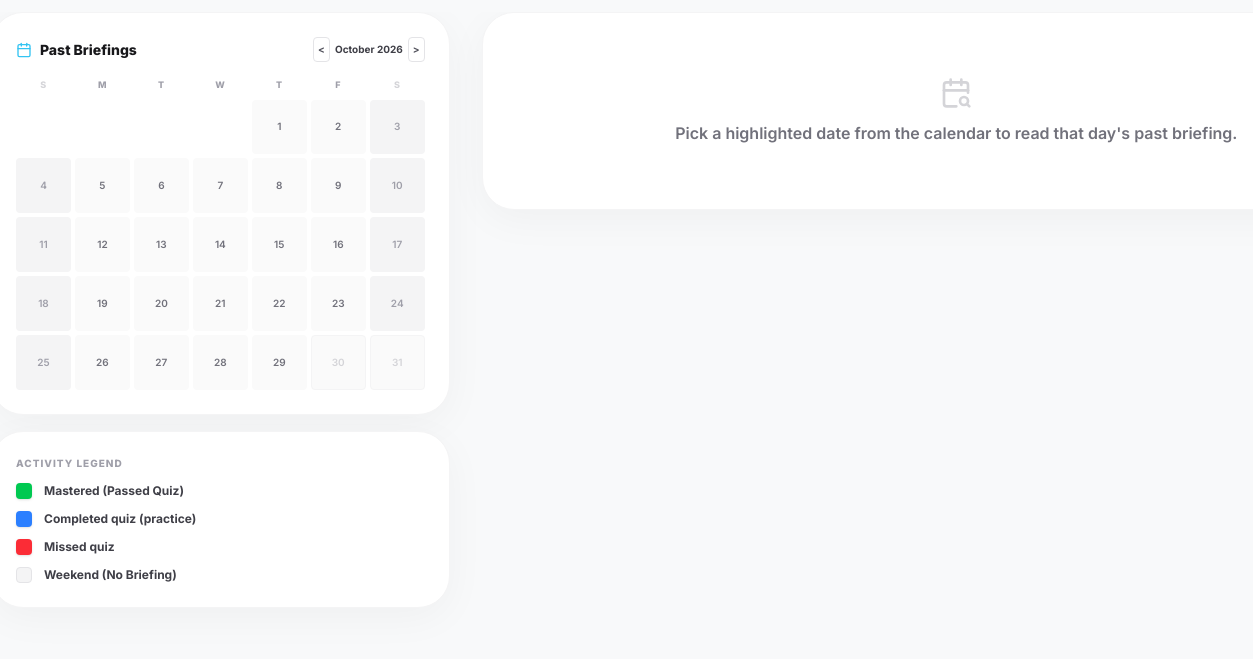
Test: PastBlogsTab › hides today without quiz; shows prior missed-quiz days in red
This screenshot has width=1253, height=659.
Expected: the text "Mastered (Passed Quiz)" is shown, x1=44 y1=483 x2=184 y2=499
Expected: the text "Missed quiz" is shown, x1=44 y1=539 x2=115 y2=555
Step 1. Click the button "<" → (322, 50), box x1=313 y1=37 x2=330 y2=62
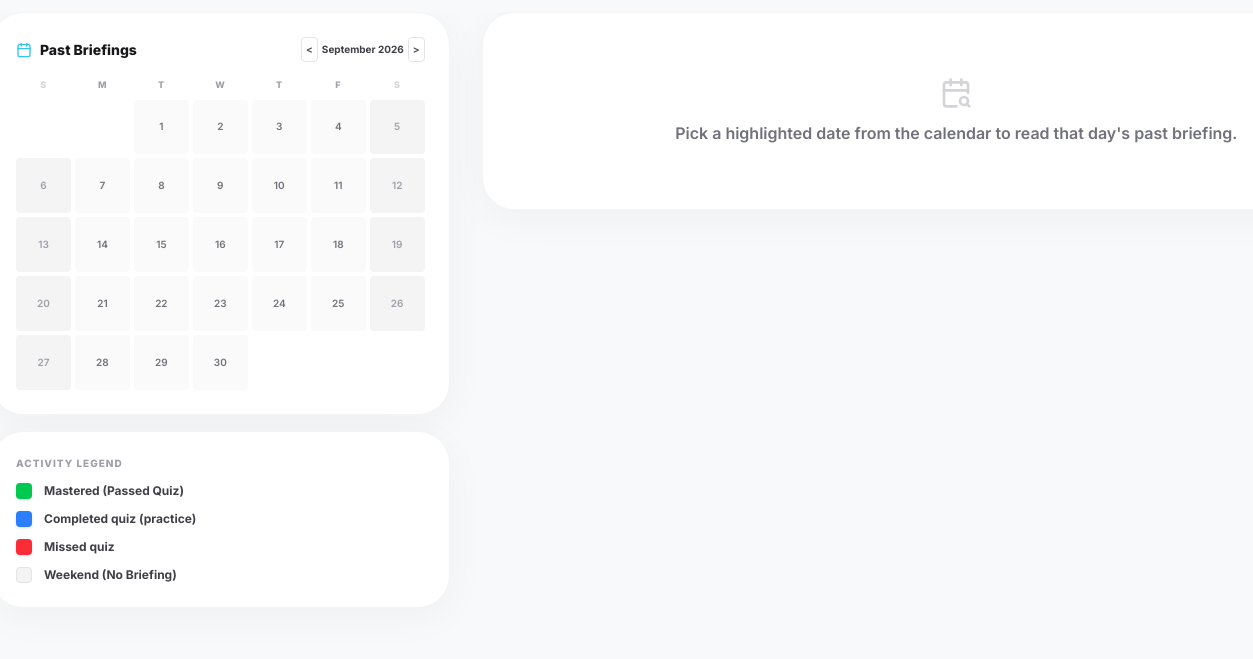
Step 2. Click the button "<" → (309, 50), box x1=301 y1=37 x2=318 y2=62
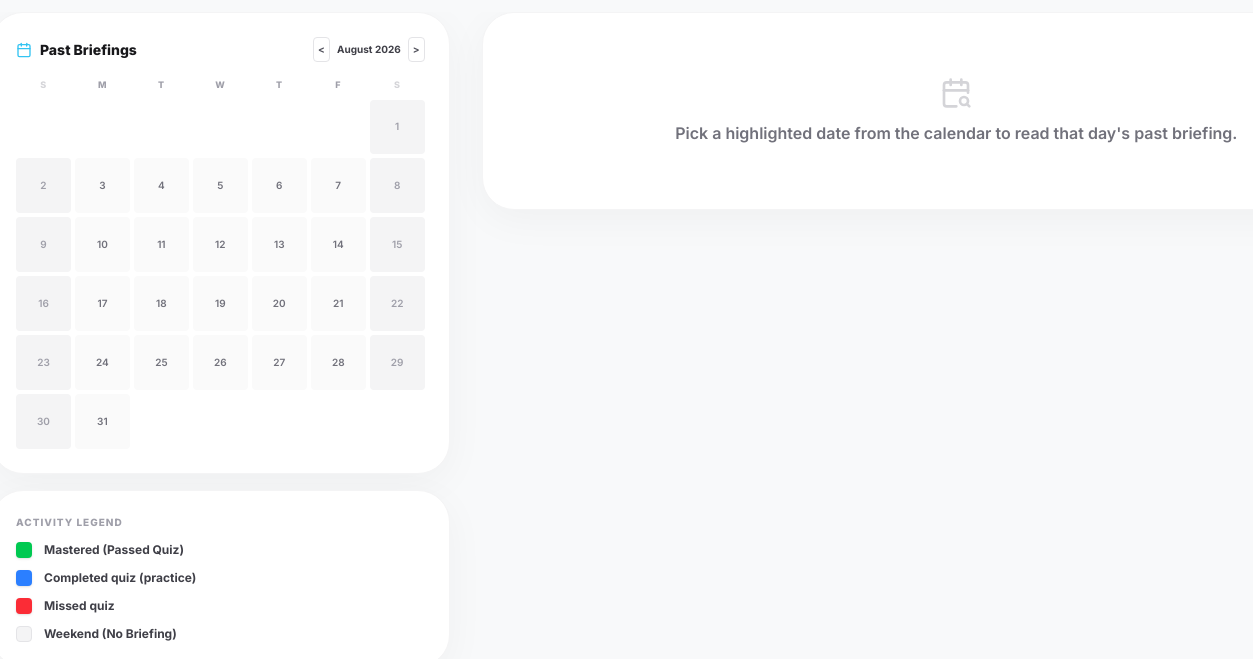
Step 3. Click the button "<" → (322, 50), box x1=313 y1=37 x2=330 y2=62
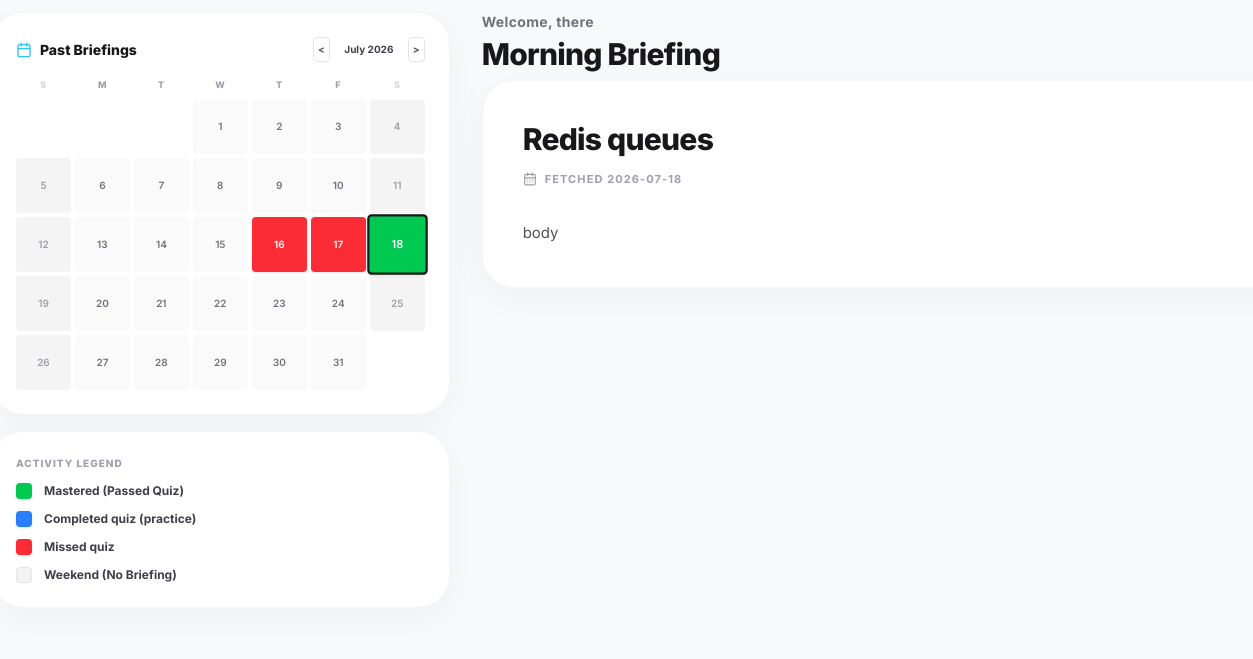
Now the text "July 2026" is shown, box x1=344 y1=43 x2=393 y2=55
